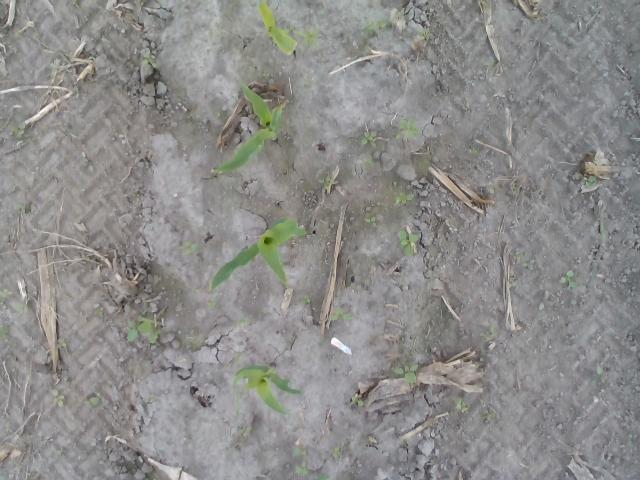Maize: (210, 215, 308, 291), (214, 77, 290, 174), (232, 360, 306, 418), (257, 0, 298, 58)
Weeds: (126, 318, 161, 344), (388, 360, 418, 385), (399, 228, 419, 257), (298, 24, 321, 48), (392, 119, 418, 140), (361, 16, 393, 33), (512, 251, 536, 272), (292, 446, 308, 476), (139, 48, 160, 69), (8, 123, 26, 144), (360, 128, 378, 148), (180, 240, 200, 258), (329, 306, 353, 320), (479, 323, 497, 341), (51, 388, 66, 408), (394, 191, 416, 204), (560, 271, 576, 288), (596, 366, 610, 385), (318, 174, 334, 189), (351, 392, 366, 407), (452, 398, 467, 413), (329, 446, 344, 460), (364, 214, 379, 228), (0, 288, 12, 304), (479, 55, 496, 66), (599, 223, 609, 241), (628, 432, 638, 449), (583, 176, 597, 188), (83, 397, 97, 409), (481, 410, 497, 420), (363, 158, 378, 168), (280, 23, 296, 32), (56, 336, 66, 350), (420, 29, 432, 40), (314, 472, 330, 480), (94, 306, 104, 318), (239, 424, 254, 432), (14, 198, 26, 208), (131, 192, 141, 204), (16, 303, 29, 312), (302, 294, 312, 304), (466, 147, 480, 154), (238, 319, 250, 327), (0, 324, 8, 336), (207, 298, 216, 308), (210, 168, 223, 174)
